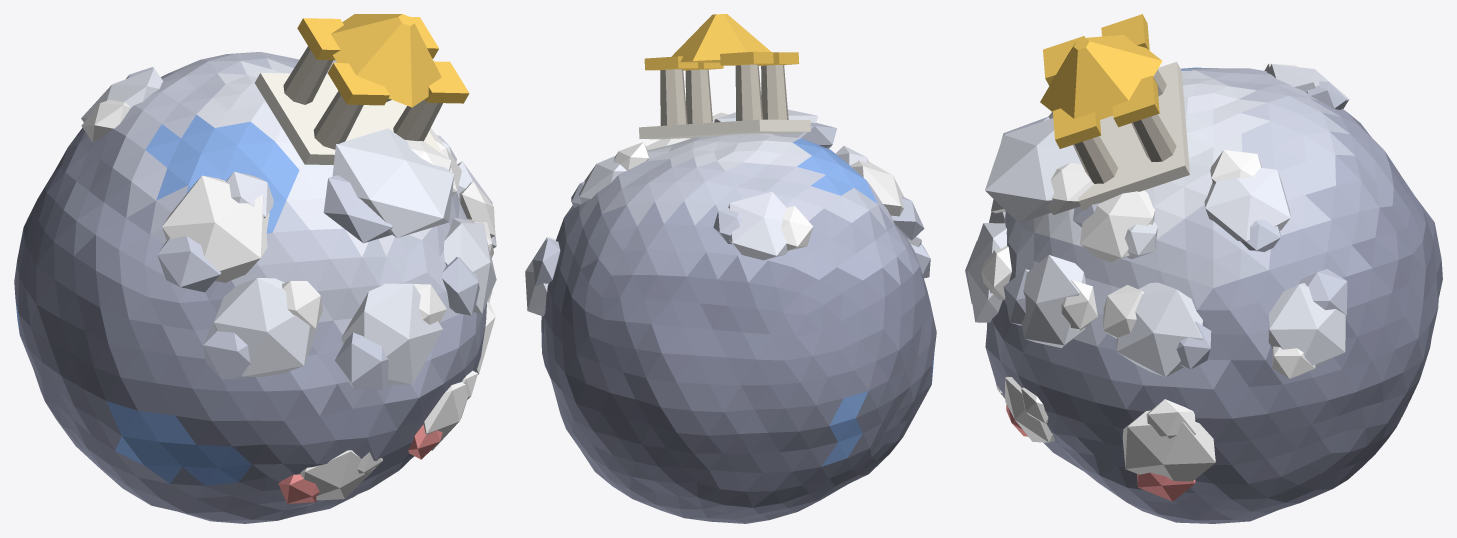
The model's file is Cloud_01.fbx.
3 views of the same model, side by side, from view 1: azimuth 30°, elevation 25°; view 2: azimuth 150°, elevation 25°; view 3: azimuth 270°, elevation 25° (orthographic). The views are drawn at different scales.
Parts seen in each view (by area): view 1: Cloud_01; view 2: Cloud_01; view 3: Cloud_01.
Part boxes in pixels (x1=…): Cloud_01: x1=14, y1=14, x2=496, y2=523; Cloud_01: x1=525, y1=14, x2=936, y2=523; Cloud_01: x1=965, y1=14, x2=1442, y2=523.
Size of the model in its own units: 6.19 by 7.28 by 6.32.
1 material, 1 textured.
